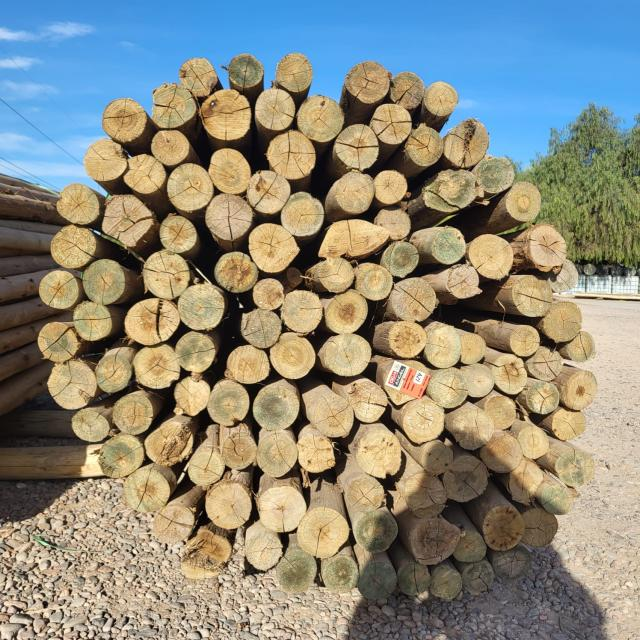package: (38, 54, 596, 600)
